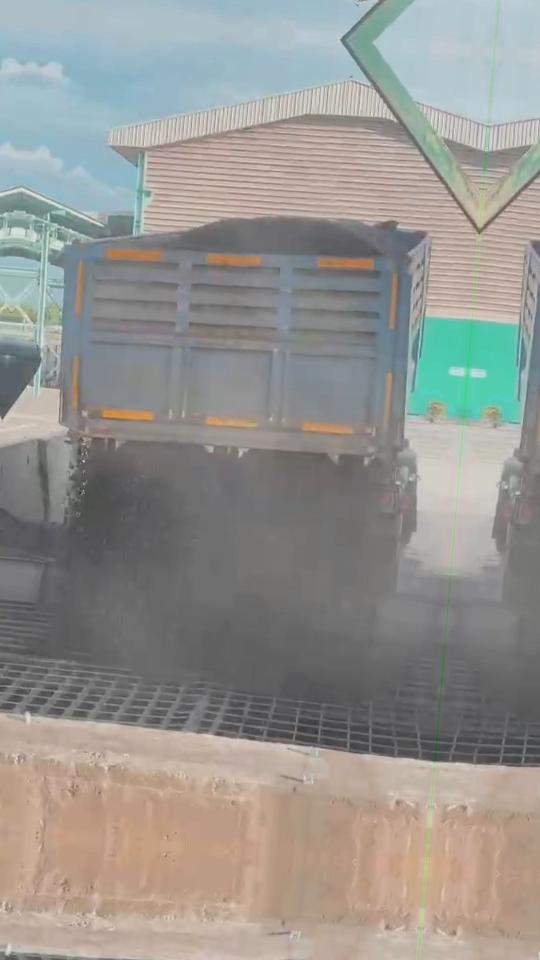gravel: (69, 441, 400, 693), (188, 218, 337, 254)
